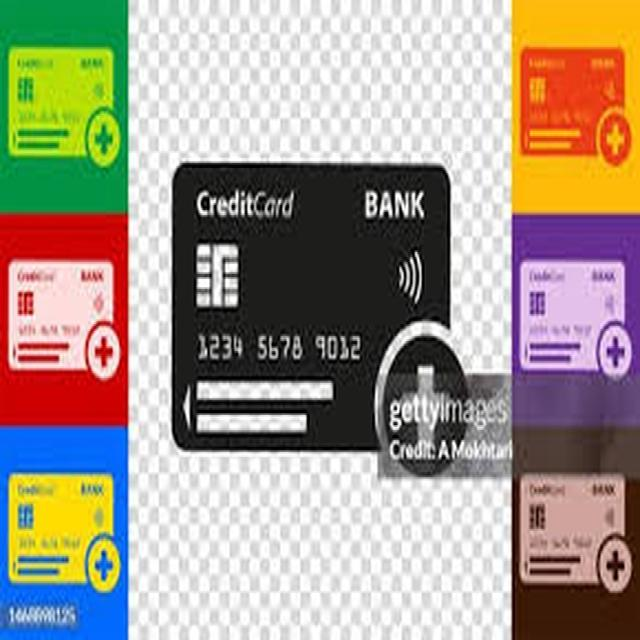card: (164, 154, 462, 467), (7, 212, 129, 393), (0, 458, 129, 616), (0, 45, 138, 173), (511, 264, 629, 400), (520, 468, 632, 609), (516, 40, 625, 180)
